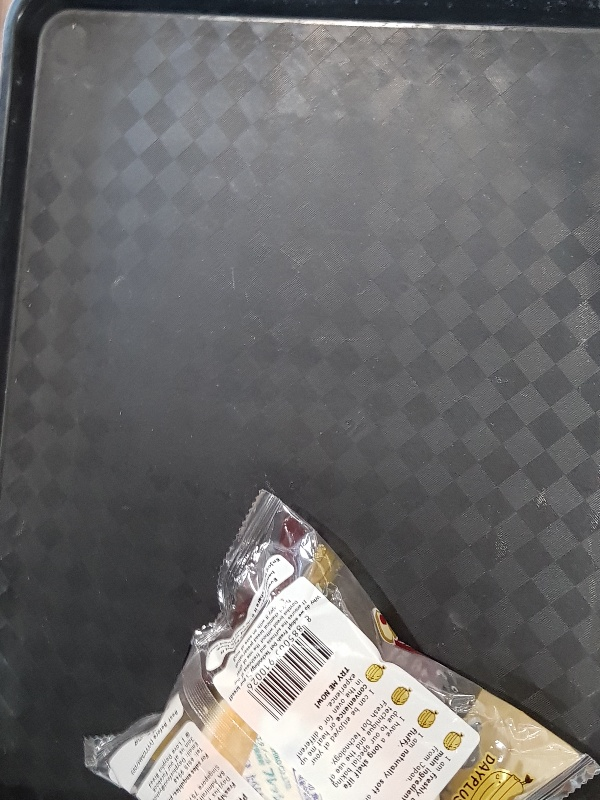Dayplus Red Bean: (83, 488, 600, 799)
